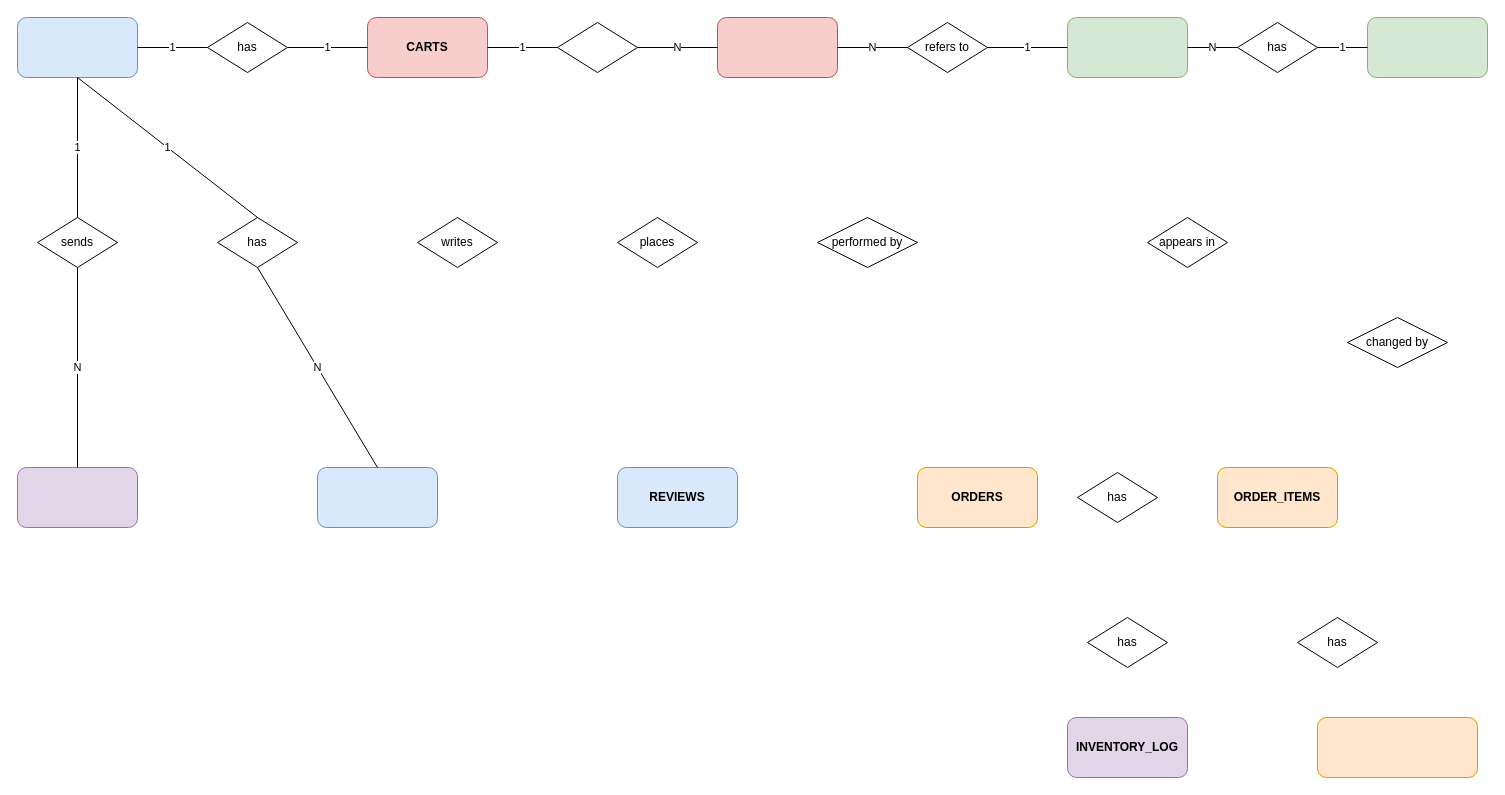
Image size: 1505x795. Some labels were removed from this diagram. The centre of each missing label's shape, as x and y in pixels:
"ADDRESSES" belongs at (377,497).
"CART_ITEMS" belongs at (777,47).
"CATEGORIES" belongs at (1427,47).
"CHAT_MESSAGES" belongs at (77,497).
"contains" belongs at (597,47).
"ORDER_STATUS_HISTORY" belongs at (1397,747).
"PRODUCTS" belongs at (1127,47).
"USERS" belongs at (77,47).
